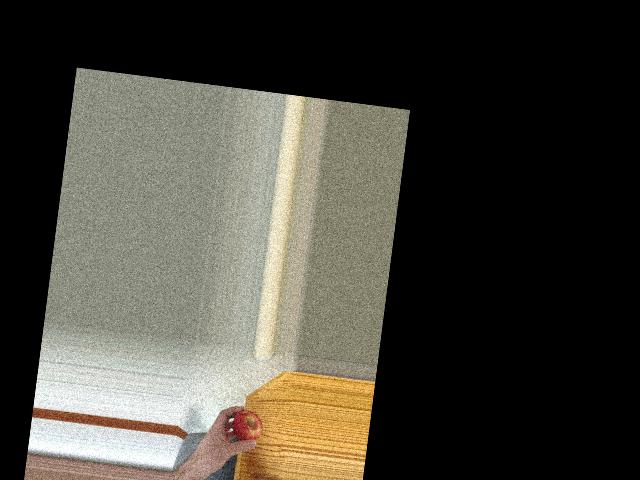apple: (227, 407, 263, 446)
